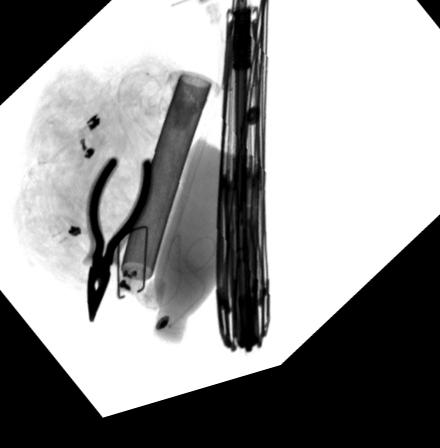Pliers: (79, 160, 155, 327)
